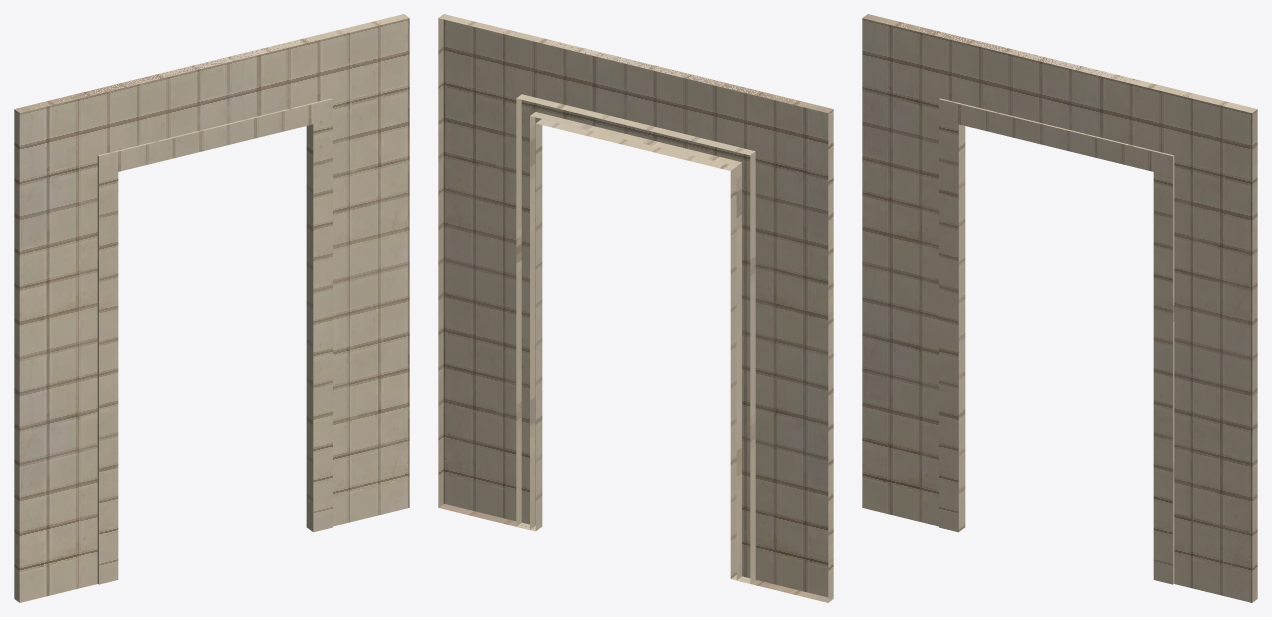
Rendered from doorway7.glb.
The picture shows the model from 3 angles, left to right: view 1: azimuth 30°, elevation 25°; view 2: azimuth 150°, elevation 25°; view 3: azimuth 330°, elevation 25°; orthographic projection.
Parts seen in each view (by area): view 1: doorway7; view 2: doorway7; view 3: doorway7.
Part boxes in pixels (<box>): doorway7: <box>14,14,409,602</box>; doorway7: <box>438,14,833,602</box>; doorway7: <box>862,14,1257,602</box>.
Bounding box in the file's own units: 2 × 2.4 × 0.06.
Materials: 1 (1 with a texture image).
